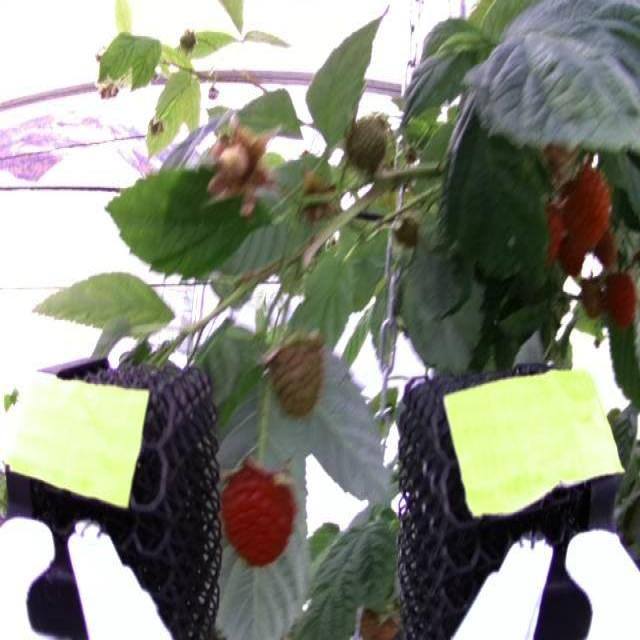Riped berries: (220, 455, 299, 564), (556, 161, 612, 250), (608, 274, 637, 325)
